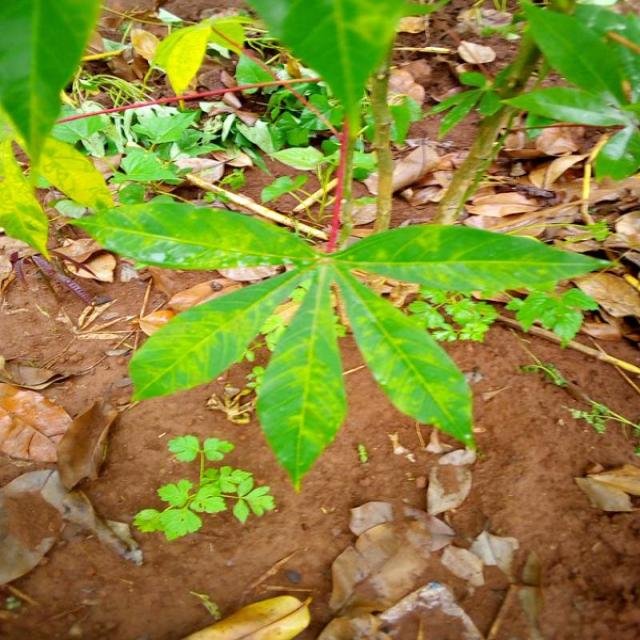cassava leaf: (65, 192, 618, 491), (254, 261, 348, 492)
